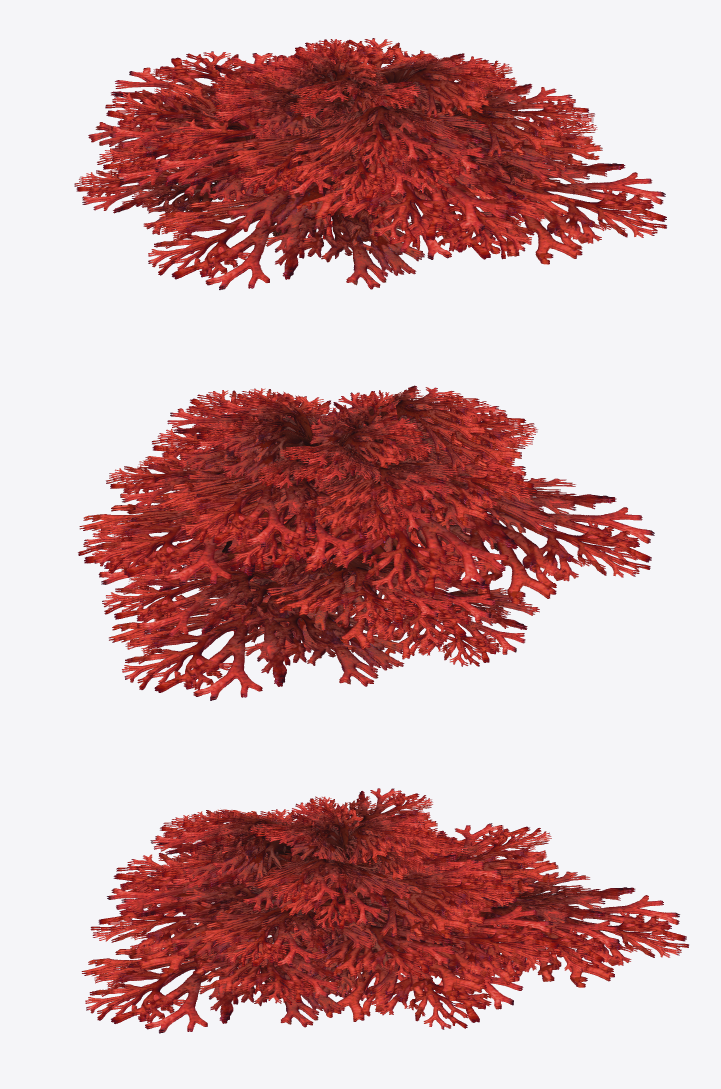
Rendered from Coral-Big_LOD0.fbx.
The picture shows the model from 3 angles, top to bottom: view 1: azimuth 30°, elevation 25°; view 2: azimuth 150°, elevation 25°; view 3: azimuth 270°, elevation 25°; orthographic projection. The views are drawn at different scales.
Parts seen in each view (by area): view 1: Coral-Big_LOD0; view 2: Coral-Big_LOD0; view 3: Coral-Big_LOD0.
Part boxes in pixels (x1,y1,x2,y2): Coral-Big_LOD0: (74, 38, 666, 289); Coral-Big_LOD0: (78, 385, 654, 700); Coral-Big_LOD0: (81, 788, 688, 1033).
Bounding box in the file's own units: 1.18 × 0.2549 × 1.26.
